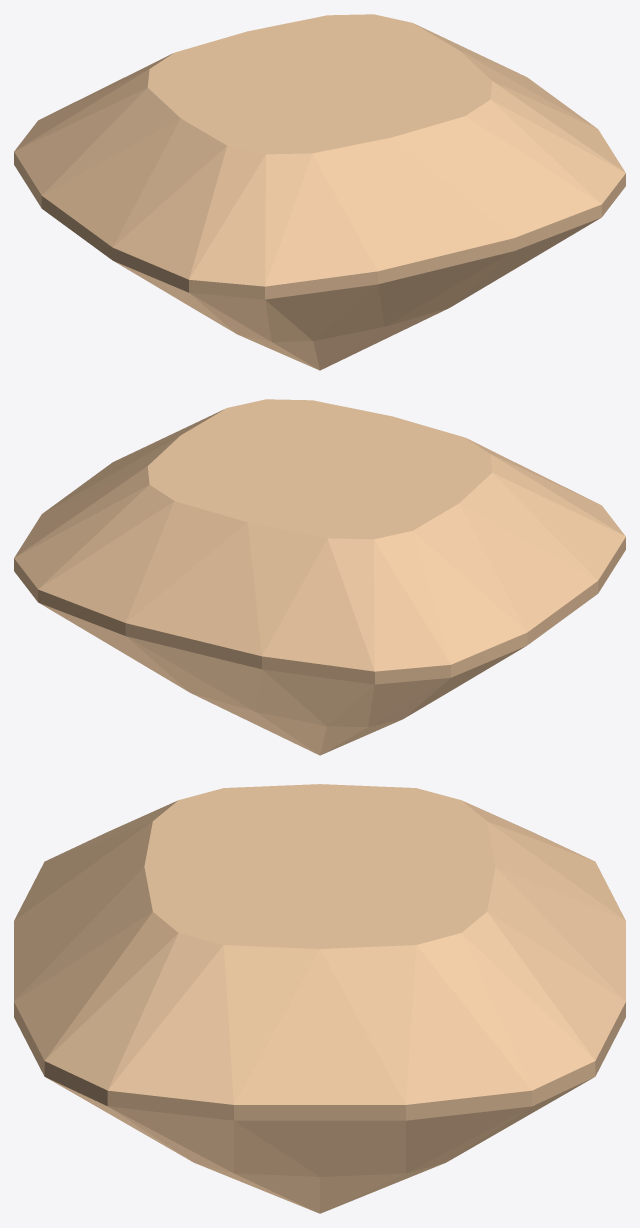
File: citrine.glb
3 renders of one model, top to bottom at view 1: azimuth 30°, elevation 25°; view 2: azimuth 150°, elevation 25°; view 3: azimuth 270°, elevation 25°, orthographic. The views are drawn at different scales.
Parts seen in each view (by area): view 1: citrine; view 2: citrine; view 3: citrine.
Part boxes in pixels (x1,y1,x2,y2): citrine: (14,14,625,370); citrine: (14,399,625,755); citrine: (14,784,625,1213).
Bounding box in the file's own units: 0.25 × 0.1409 × 0.225.
